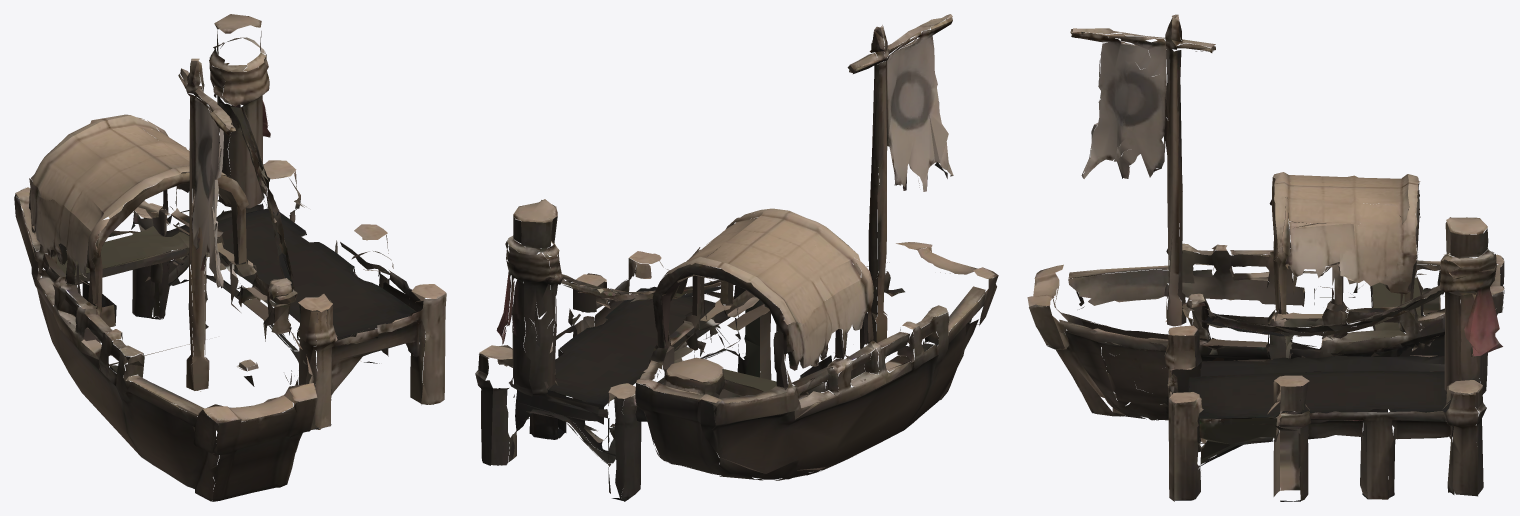
File: ferryJetty.glb
3 renders of one model, left to right at view 1: azimuth 30°, elevation 25°; view 2: azimuth 150°, elevation 25°; view 3: azimuth 270°, elevation 25°, orthographic. The views are drawn at different scales.
Parts seen in each view (by area): view 1: Prop_ferryJetty; view 2: Prop_ferryJetty; view 3: Prop_ferryJetty.
Boxes of the visible parts, bbox=[...] form: Prop_ferryJetty: bbox=[14, 14, 446, 501]; Prop_ferryJetty: bbox=[475, 14, 998, 501]; Prop_ferryJetty: bbox=[1027, 14, 1504, 501].
Bounding box in the file's own units: 2.54 × 3 × 3.43.
1 material, 1 textured.
